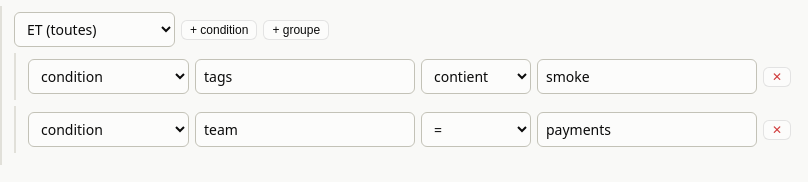
Test: RuleBuilder — group nodes (all/any) › shows and wires up remove buttons once there are multiple children
Click the 1st button titled "supprimer ce nœud".
click(777, 76)  # box [763, 66, 791, 86]
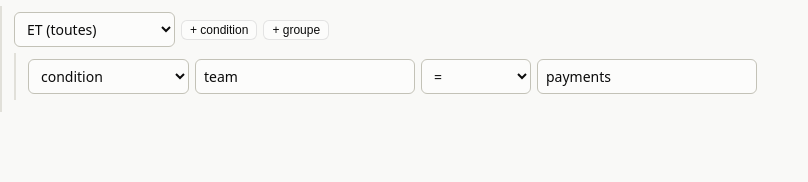
Expected: the number of fields with placeholder "propriété (ex. tags, team, criticality)" is 1, [195, 59, 415, 94]
